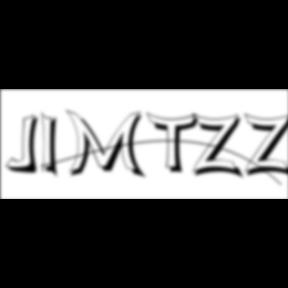I: (41, 110, 65, 182)
J: (6, 114, 44, 176)
M: (65, 108, 149, 181)
T: (147, 112, 205, 176)
Z: (192, 112, 246, 181)
